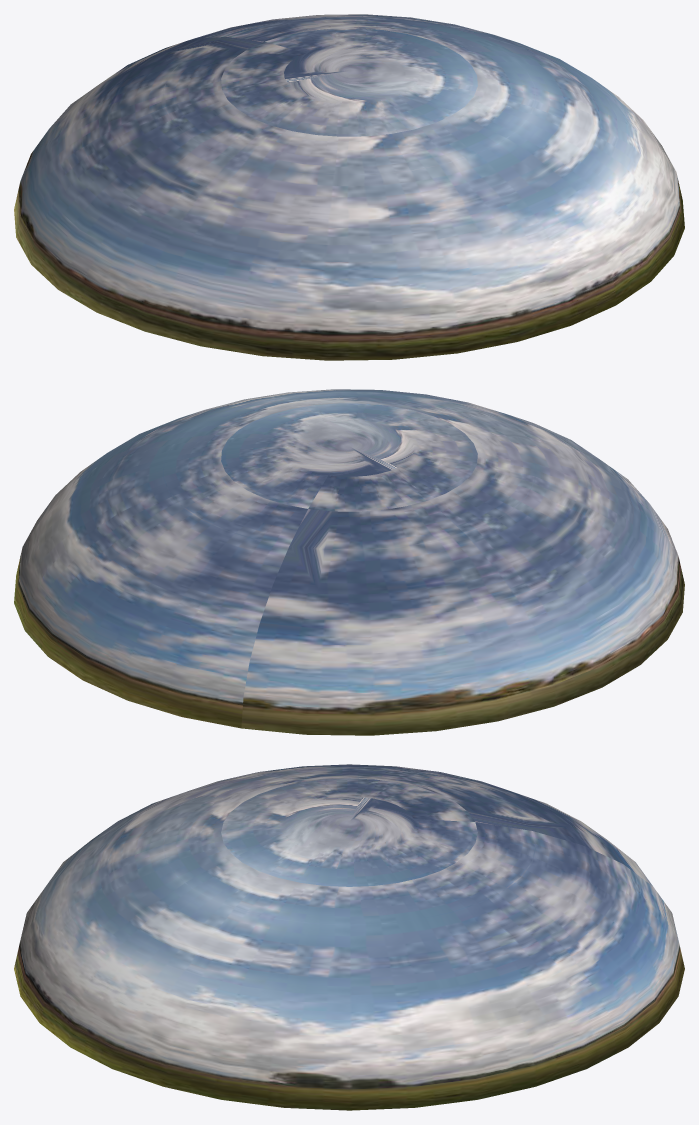
The model's file is sky.obj.
3 renders of one model, top to bottom at view 1: azimuth 30°, elevation 25°; view 2: azimuth 150°, elevation 25°; view 3: azimuth 270°, elevation 25°, orthographic.
Visible parts, largest first — view 1: Sphere; view 2: Sphere; view 3: Sphere.
Part boxes in pixels (box(x1,y1,x2,y2)): Sphere: box(14, 14, 684, 360); Sphere: box(14, 389, 684, 735); Sphere: box(14, 764, 684, 1110).
Size of the model in its own units: 4945 by 1198 by 4945.
Materials: 1 (1 with a texture image).
